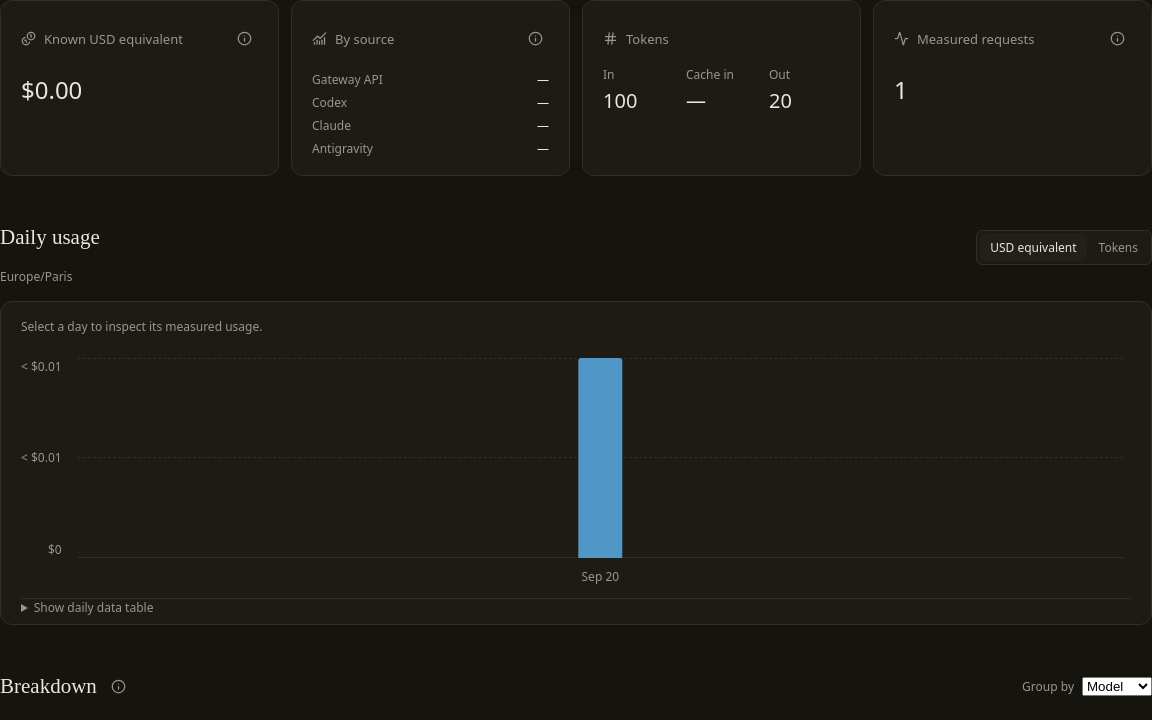
Test case: keeps mixed valuations distinct and price sources in their own info panel
Check: the heading "Known USD equivalent" is shown, box [21,30,183,48]
Step 1. Click the button named "About this amount" → (244, 39), box [230,25,258,53]
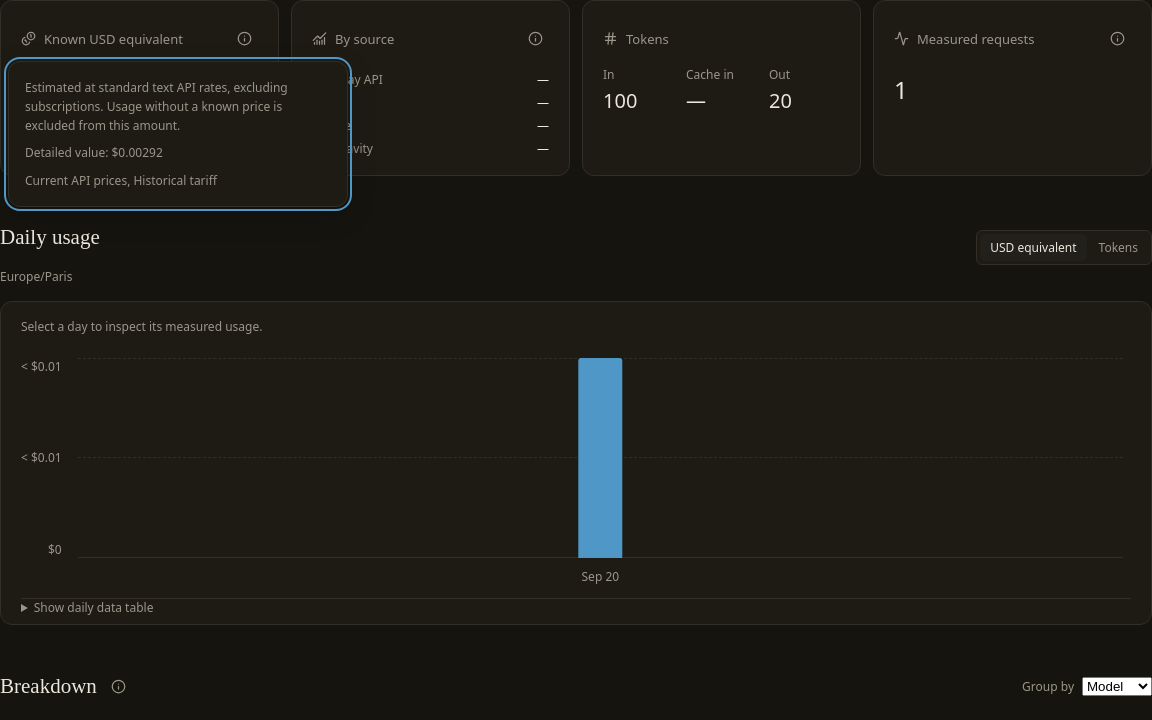
Check: the text "Current API prices, Historical tariff" is shown, box [25,172,217,188]
Step 2. Press Escape
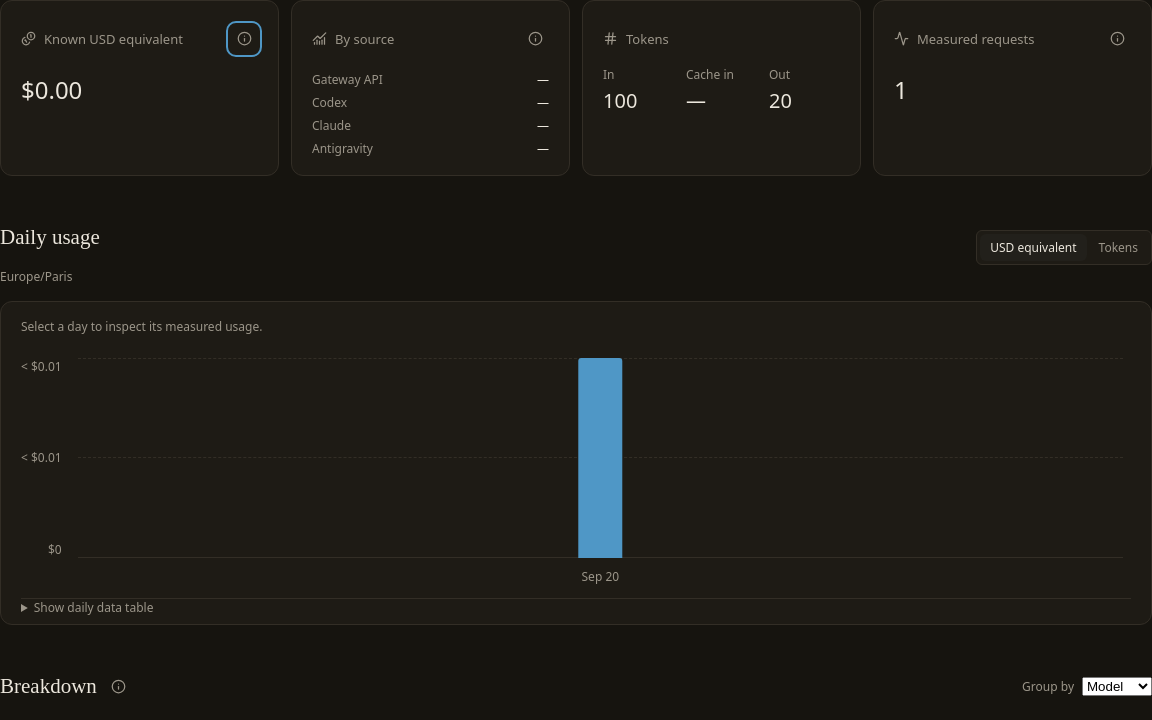
Check: the text "Price-source freshness unavailable." is not shown
Step 3. Click the button named "Price sources" → (119, 686), box [105,672,133,700]
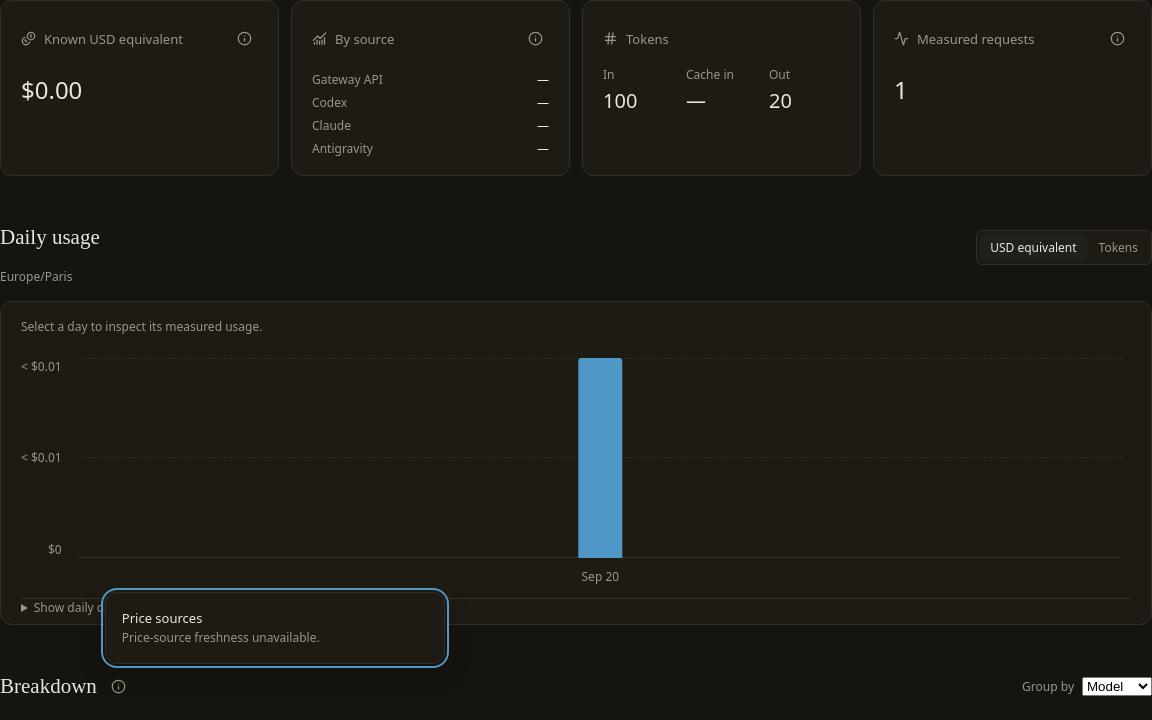
Check: the text "Price-source freshness unavailable." is shown, box [122,629,320,646]
Step 4. Press the mouse on the element that starts with "Known USD equivalent" → (576, 360), box [0,0,1151,719]
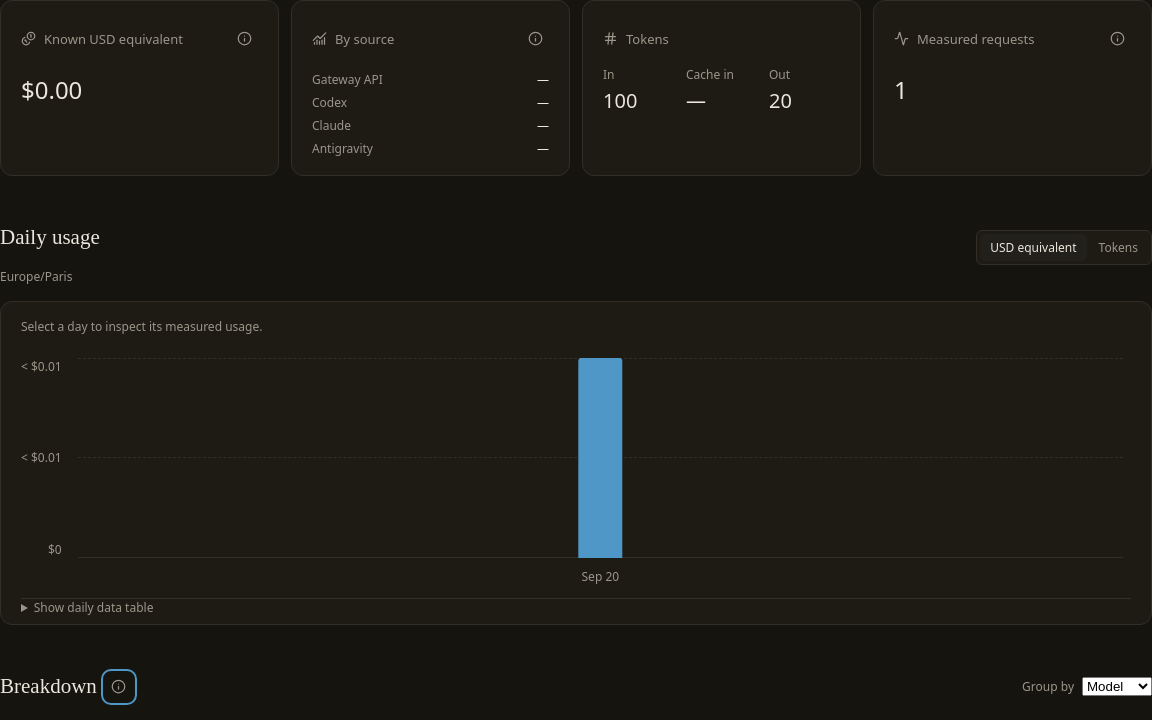
Check: the dialog is gone
